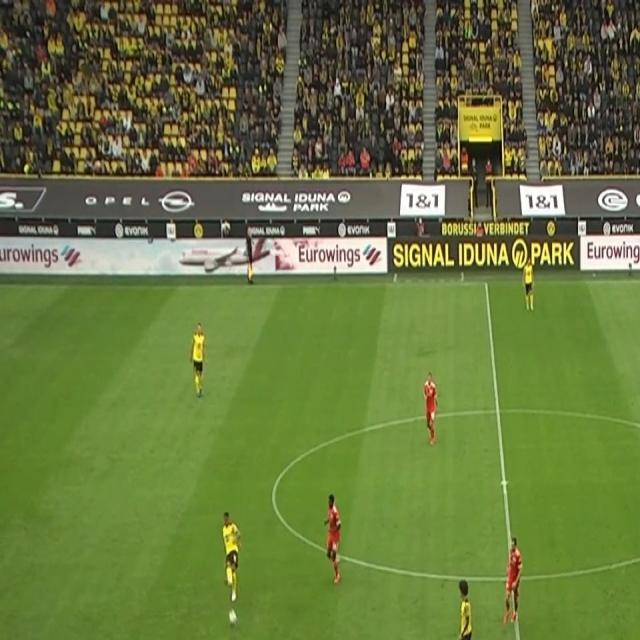ball: (228, 608, 239, 630)
